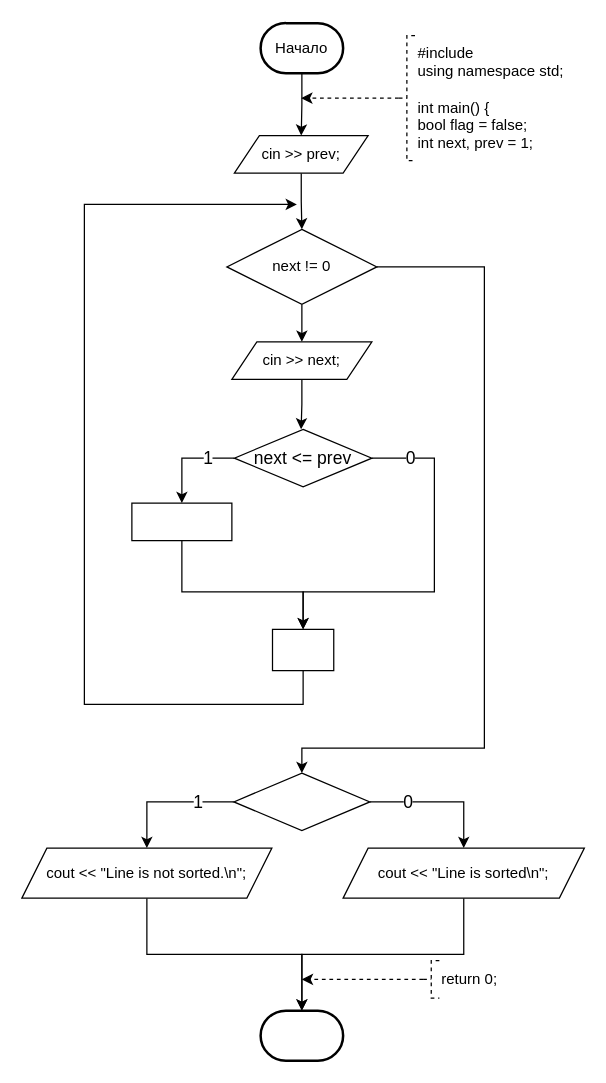
This 606x1083 diagram has some shape labels left out. Here are the shapes that lost their labels. From the top down, the box of each, then its label:
(131, 502, 232, 541): flag = true;
(271, 628, 334, 671): i++;
(233, 772, 370, 831): flag == true
(259, 1009, 344, 1061): Конец
